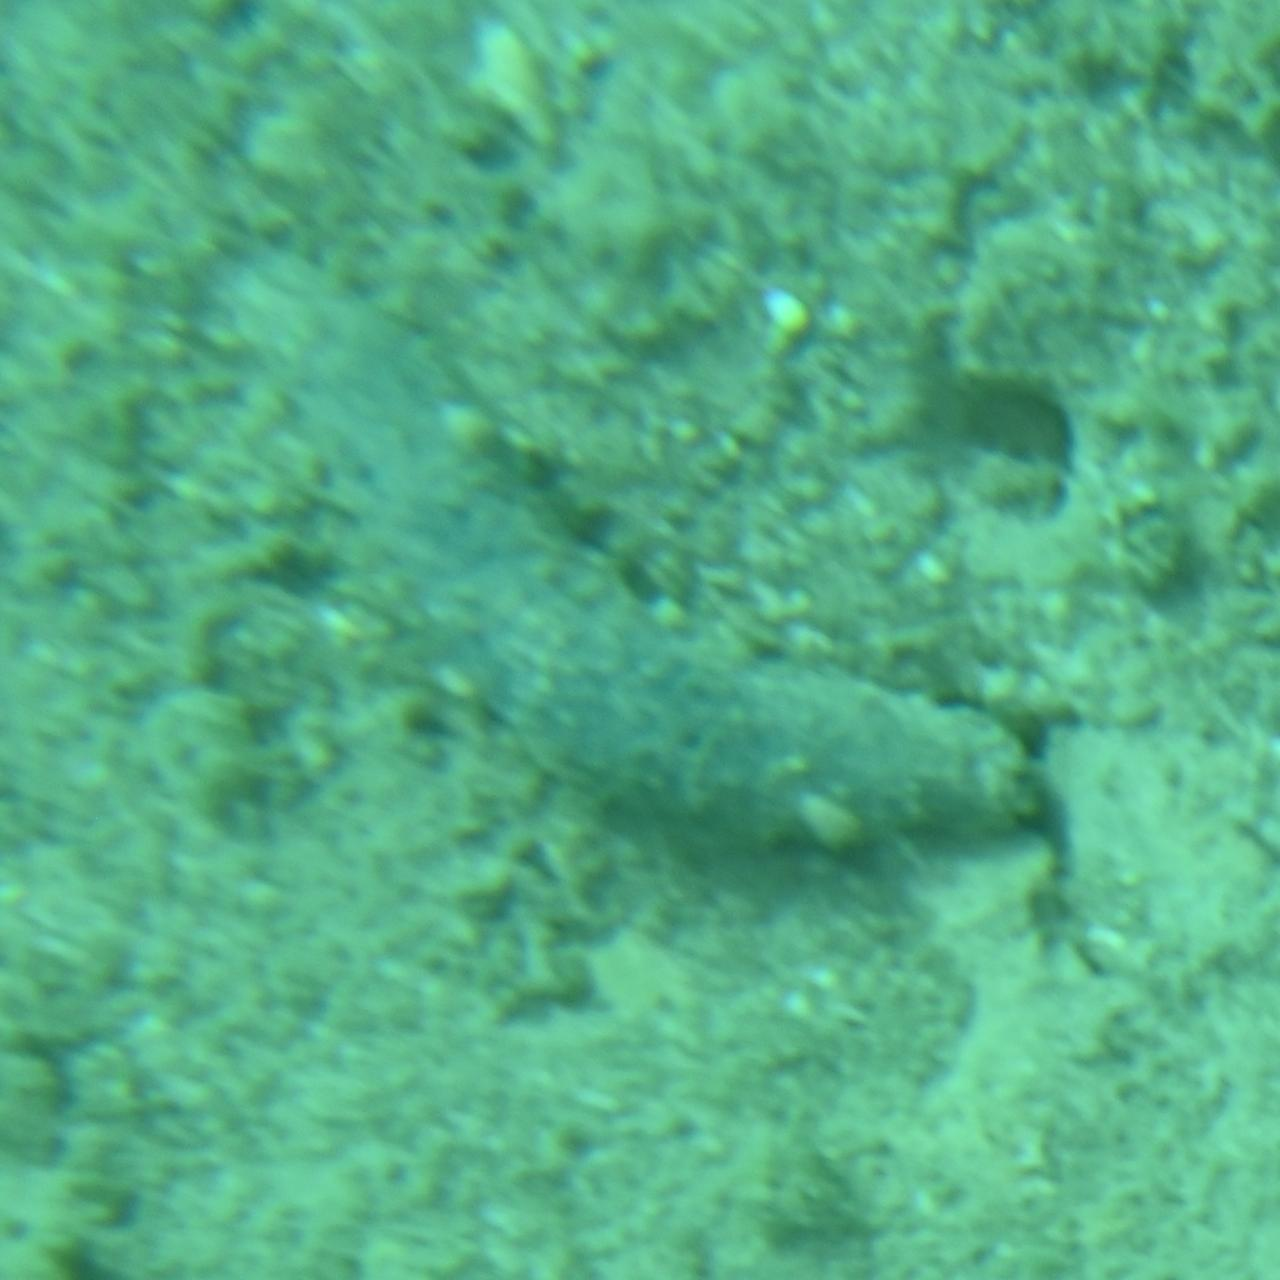Holothuria tubulosa: (220, 219, 1060, 854)
